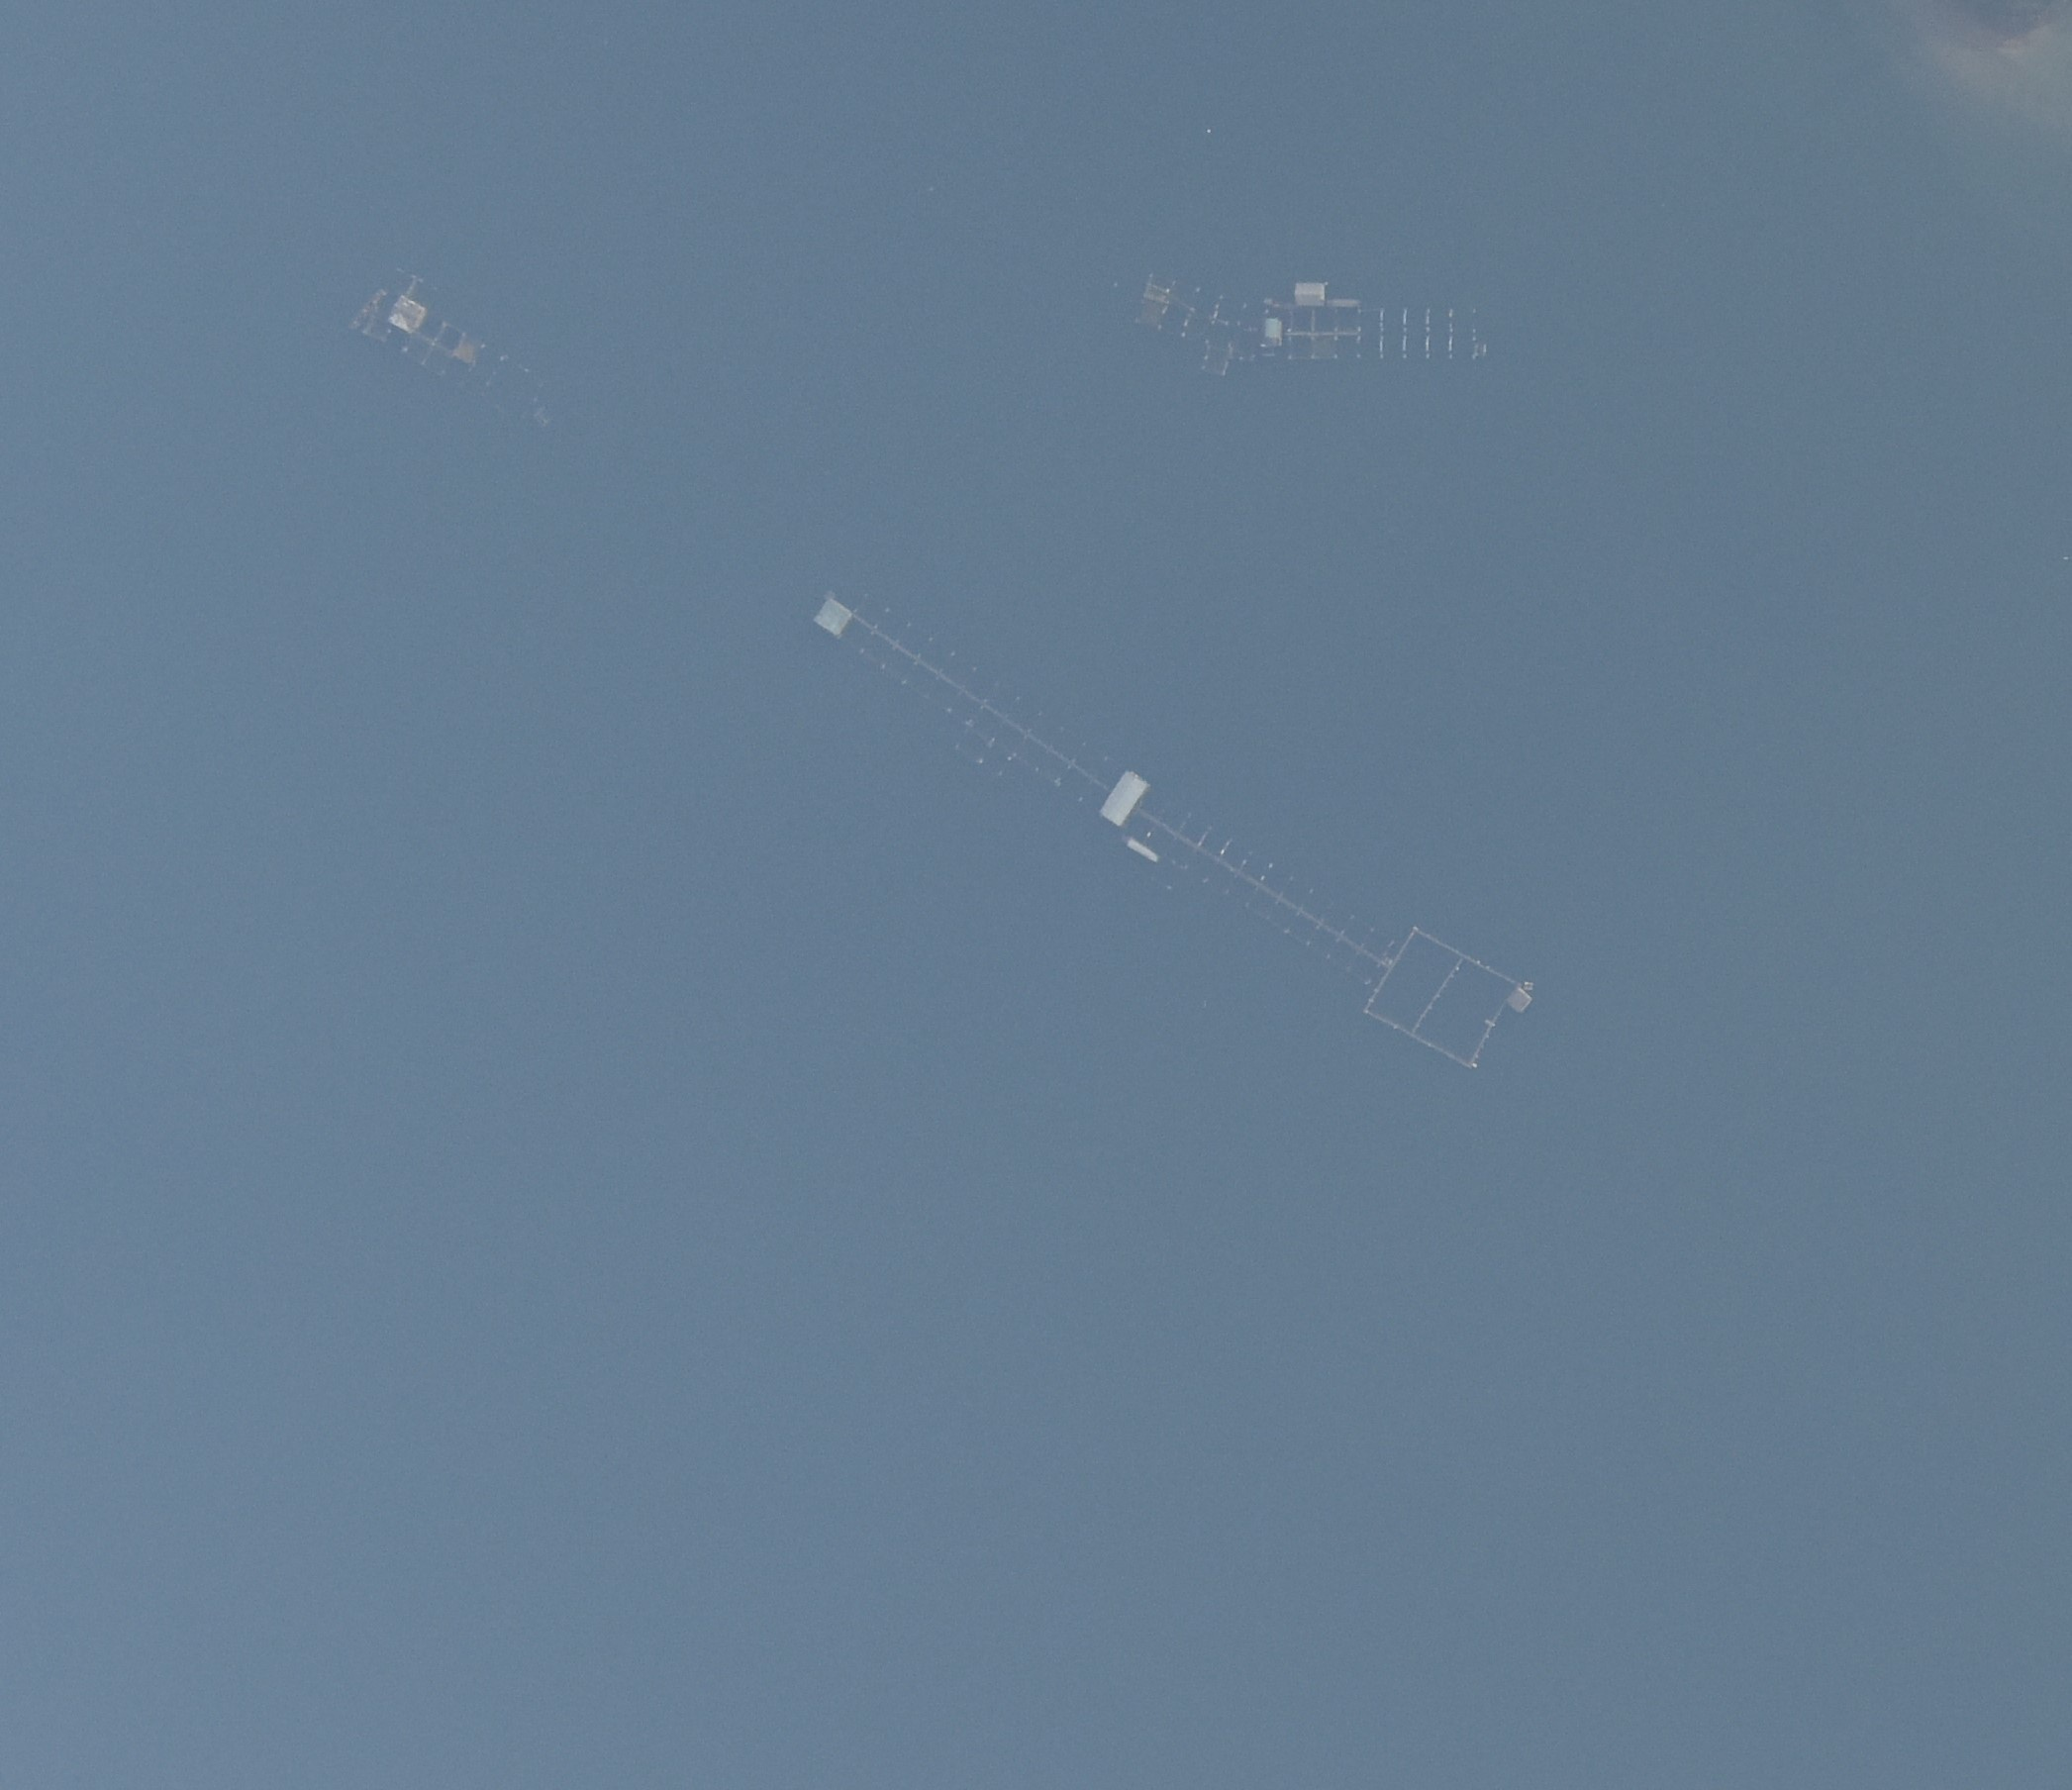cultivation-mesh-cage: (843, 587, 1118, 810), (1144, 790, 1393, 987), (345, 262, 557, 431), (1366, 918, 1530, 1072), (1145, 270, 1263, 372), (1285, 307, 1489, 363)
prefabricated-house: (1099, 767, 1145, 824), (813, 596, 852, 640), (386, 296, 427, 332), (1293, 282, 1327, 306), (1260, 318, 1283, 348)
